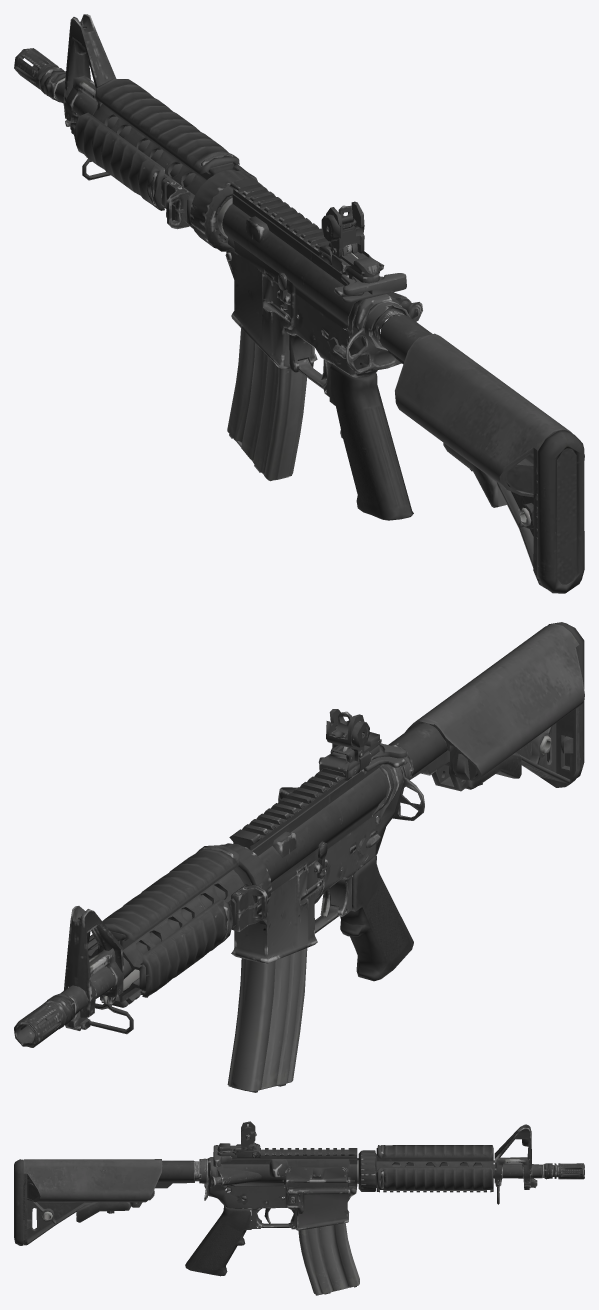
3 views of the same model, one above another, from view 1: azimuth 30°, elevation 25°; view 2: azimuth 150°, elevation 25°; view 3: azimuth 270°, elevation 25° (orthographic). The views are drawn at different scales.
Visible parts, largest first — view 1: rest_steel, magazine_steel, bolt_steel; view 2: rest_steel, magazine_steel, bolt_steel; view 3: rest_steel, magazine_steel.
Part boxes in pixels (left/top/right/bottom): rest_steel: left=14, top=14, right=584, bottom=593; magazine_steel: left=227, top=272, right=306, bottom=481; bolt_steel: left=334, top=273, right=406, bottom=302; rest_steel: left=14, top=622, right=584, bottom=1047; magazine_steel: left=227, top=867, right=307, bottom=1092; bolt_steel: left=363, top=743, right=407, bottom=771; rest_steel: left=14, top=1121, right=584, bottom=1276; magazine_steel: left=298, top=1223, right=359, bottom=1295.
Bounding box in the file's own units: 0.095 × 0.3055 × 0.9377.
Materials: 1 (1 with a texture image).
